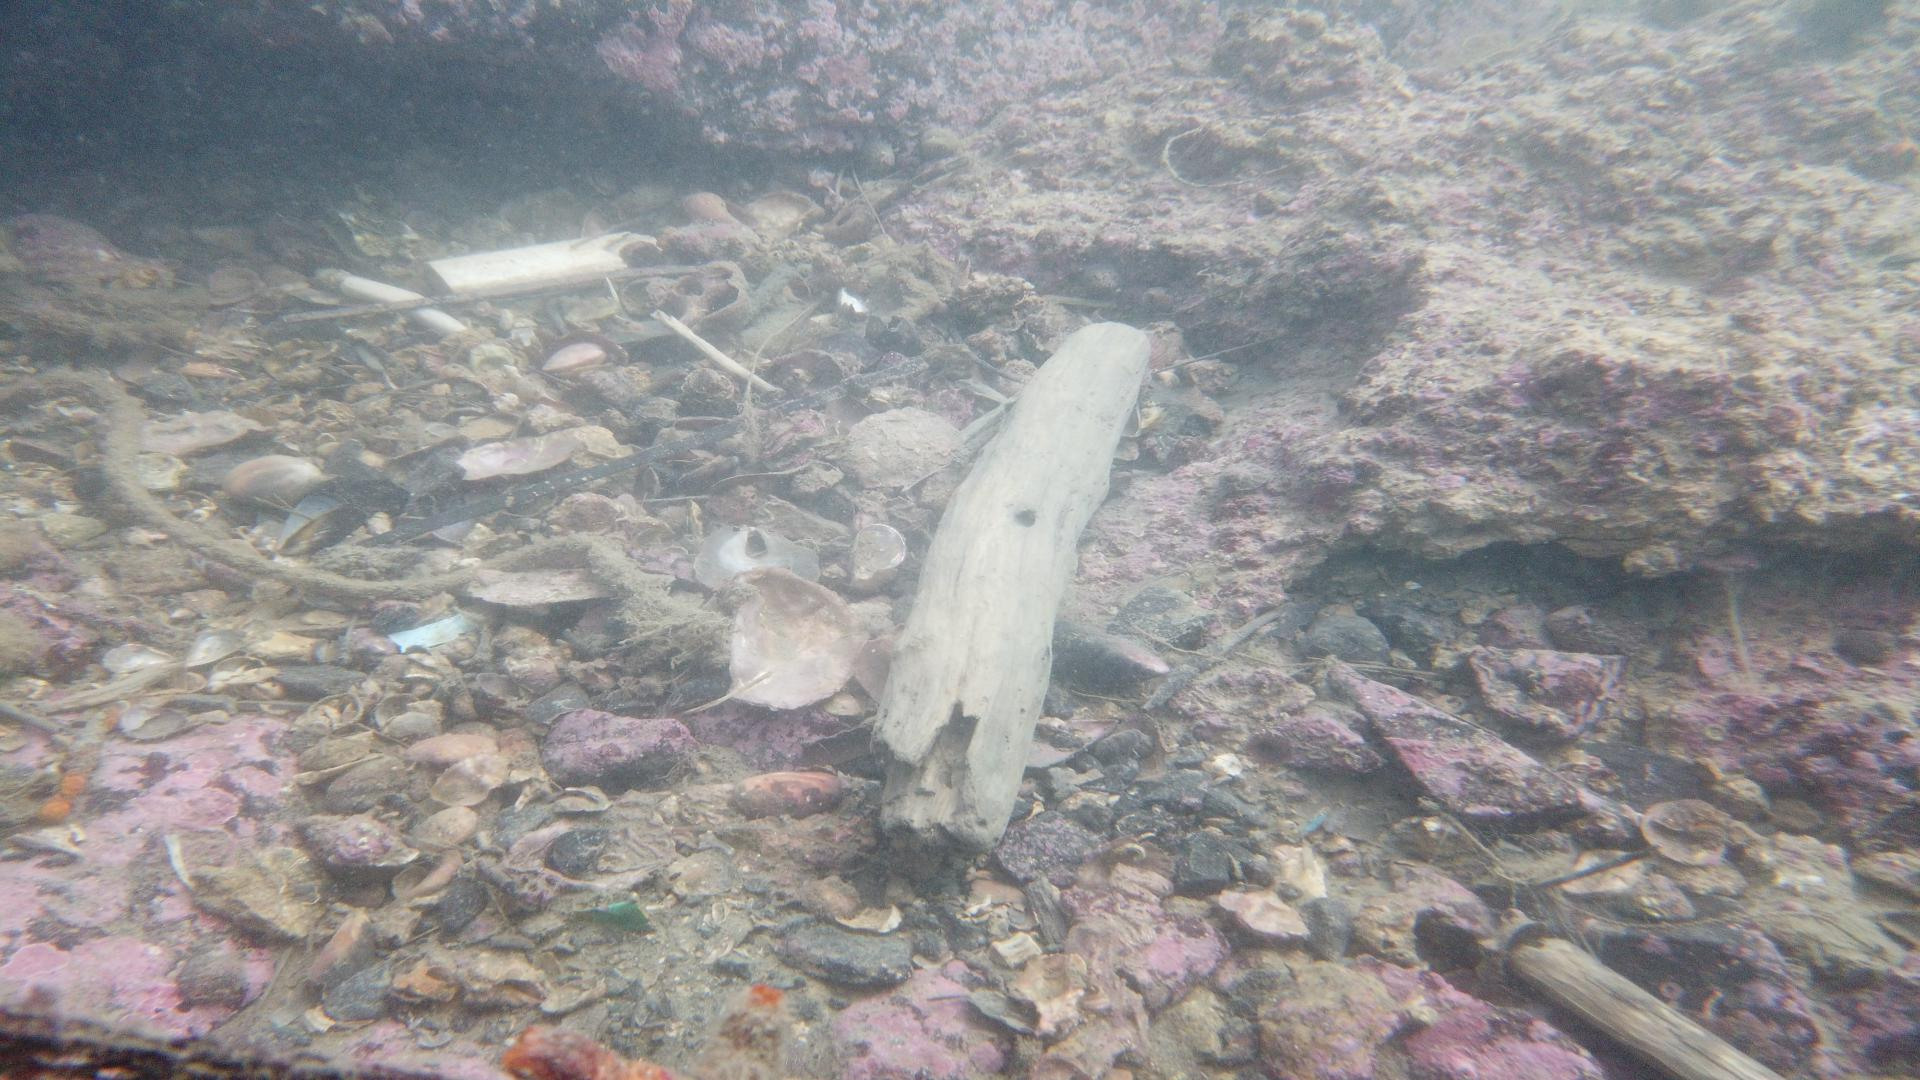rope: (0, 369, 735, 669), (1534, 885, 1876, 953)
wood: (865, 316, 1154, 852), (1507, 935, 1789, 1080)
